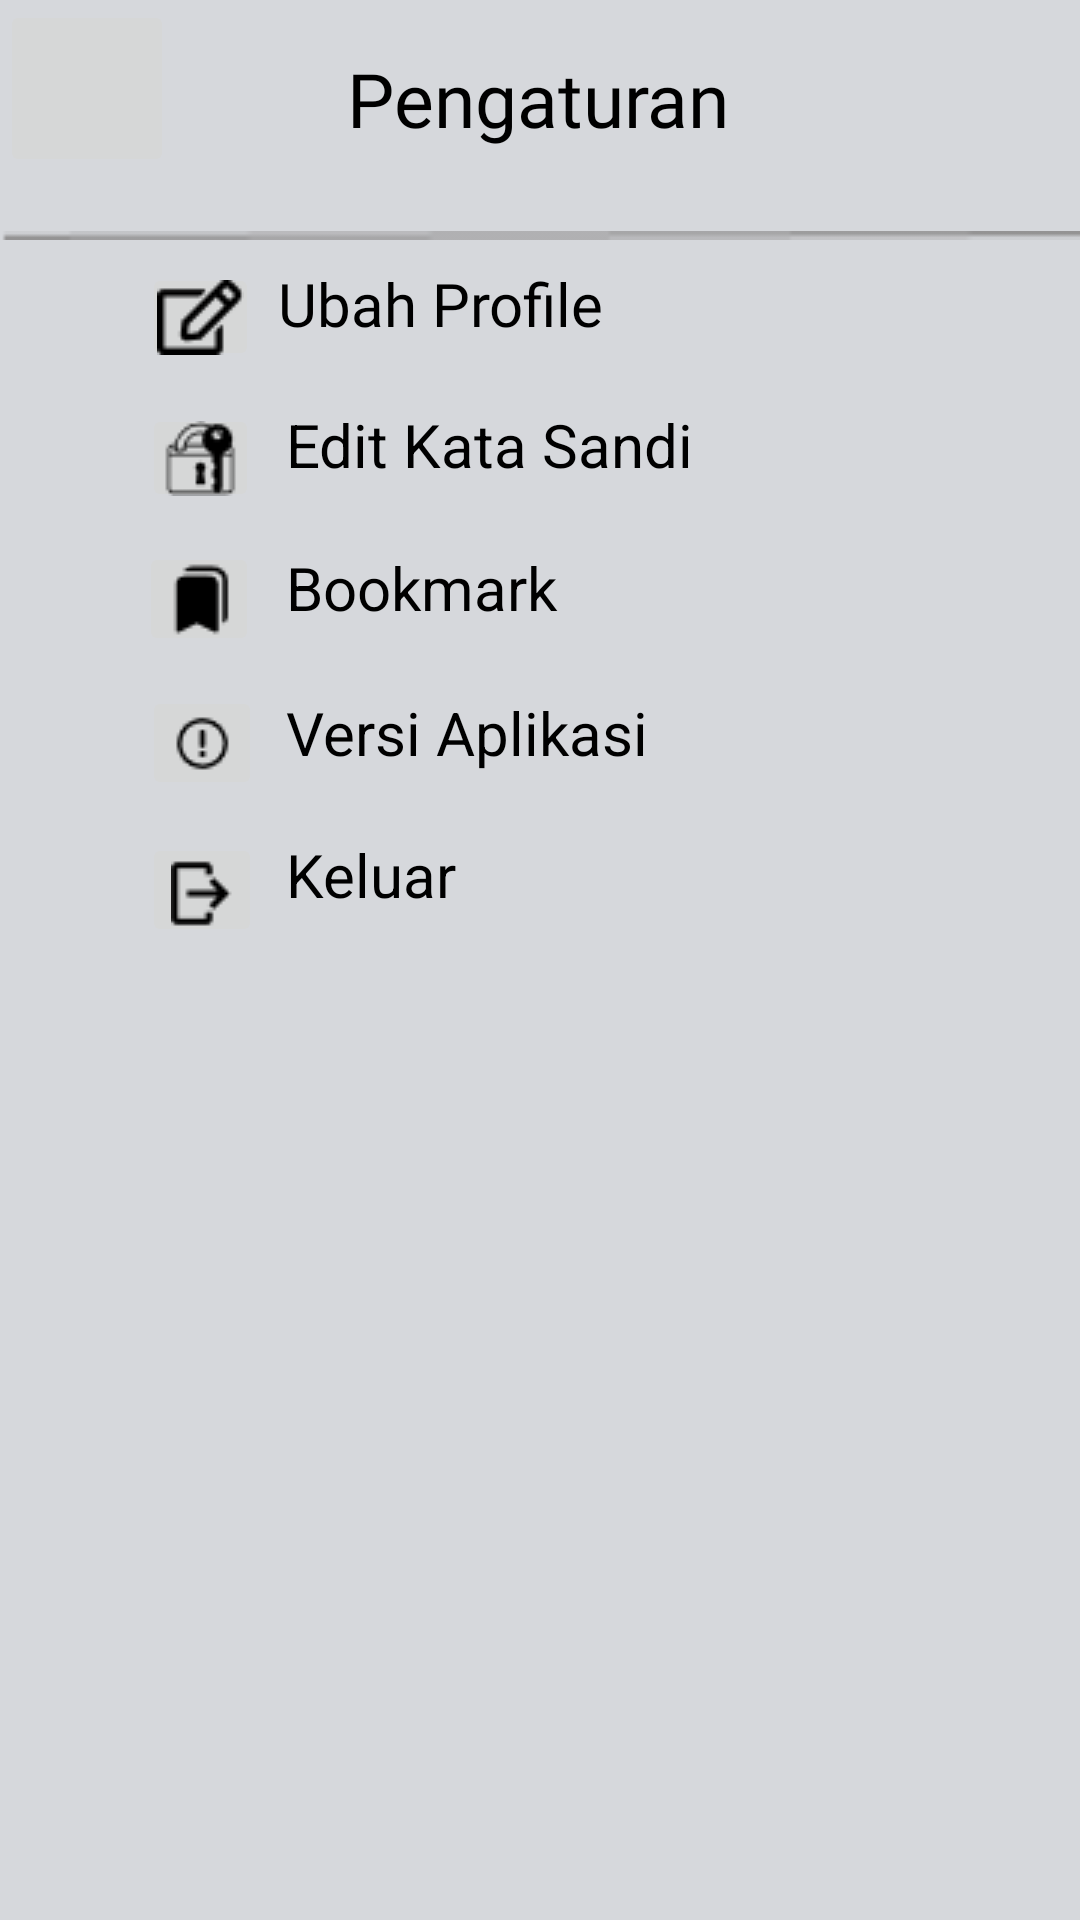

Named icons in this screenshot (1080x1920) and their bounding boxes, (x1, y1, x2, y2):
kunci: (165, 421, 236, 496)
seru: (176, 717, 229, 770)
